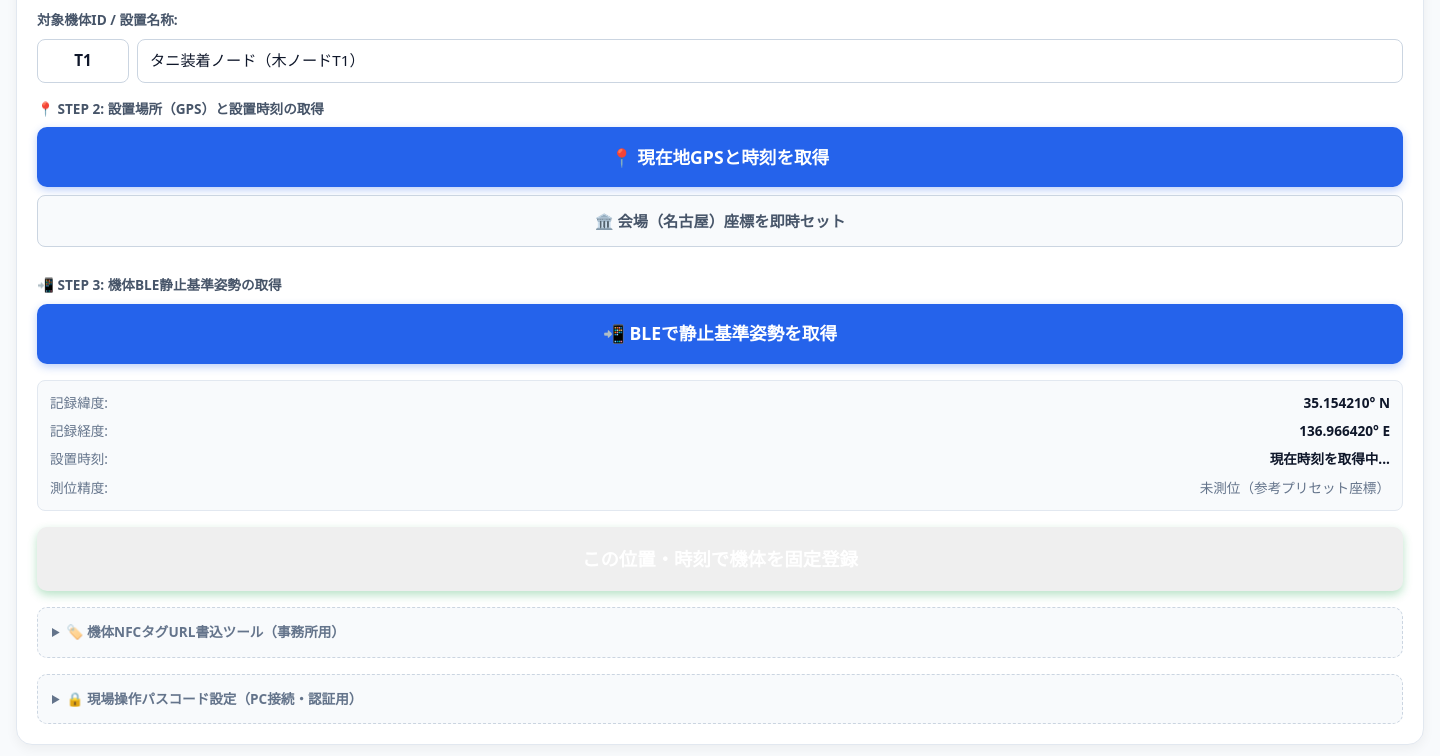
Test case: MobileHome › APIが401 Unauthorizedを返した際に圏外保存と誤魔化さず、パスコード警告を表示する (Issue #50)
(page scrolled)
Step 1. Click the button "この位置・時刻で機体を固定登録" → (720, 559), box [37, 527, 1403, 591]
(page scrolled)
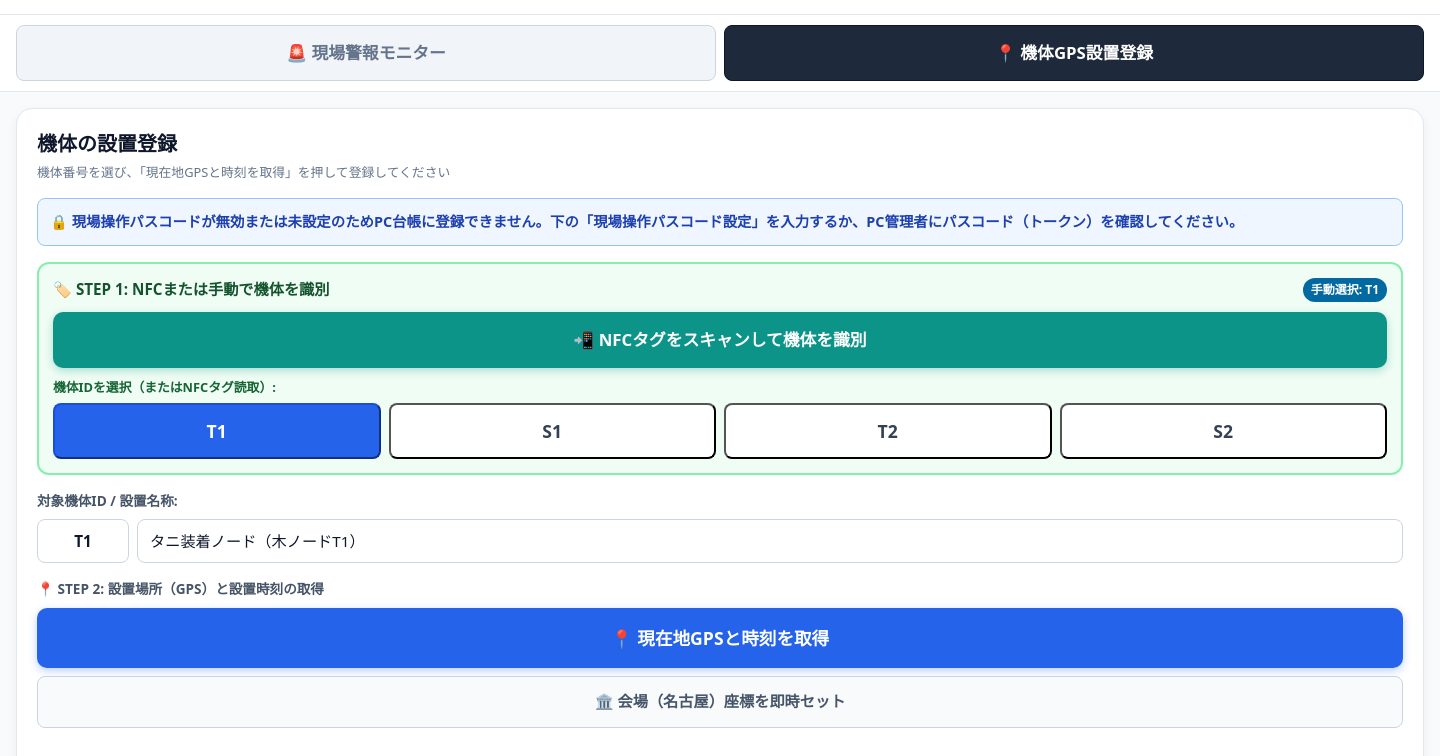
Now the text "現場操作パスコードが無効または未設定のためPC台帳に登録できません" is shown, box [50, 212, 1243, 231]
